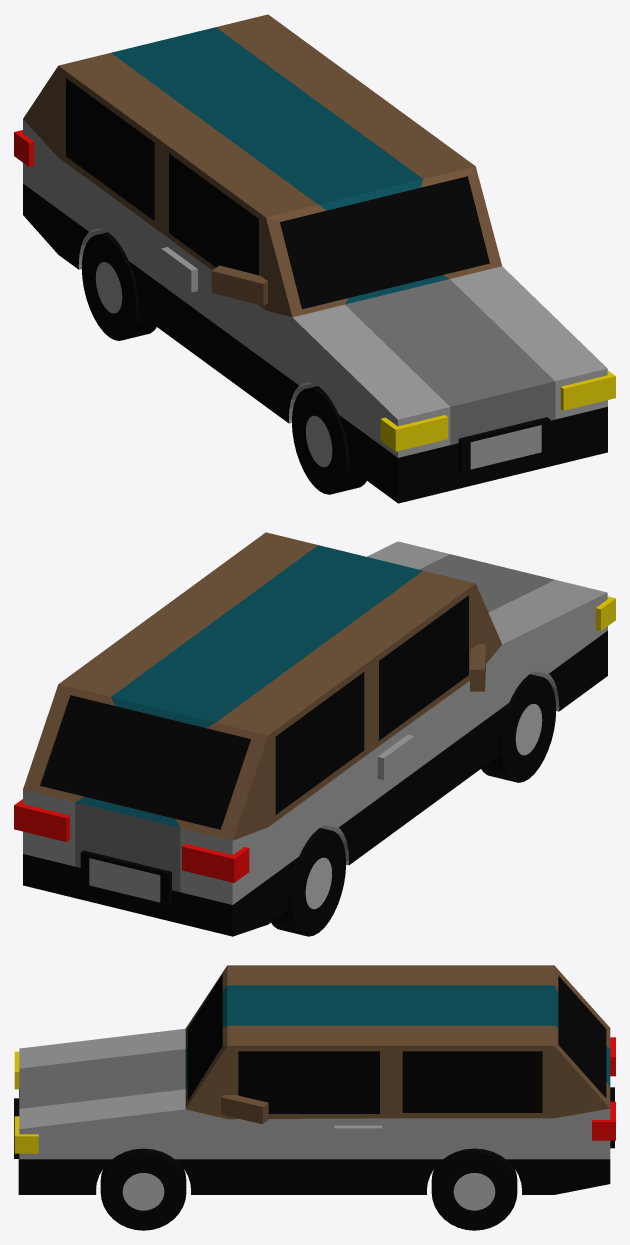
Rendered from Mobil_Satu_Coklat.fbx.
3 views of the same model, one above another, from view 1: azimuth 30°, elevation 25°; view 2: azimuth 150°, elevation 25°; view 3: azimuth 270°, elevation 25° (orthographic). The views are drawn at different scales.
Visible parts, largest first — view 1: Mobil2; view 2: Mobil2; view 3: Mobil2.
Part boxes in pixels (x1,y1,x2,y2): Mobil2: [14, 14, 615, 503]; Mobil2: [14, 532, 615, 936]; Mobil2: [14, 965, 615, 1230].
Bounding box in the file's own units: 521 × 427 × 1261.
